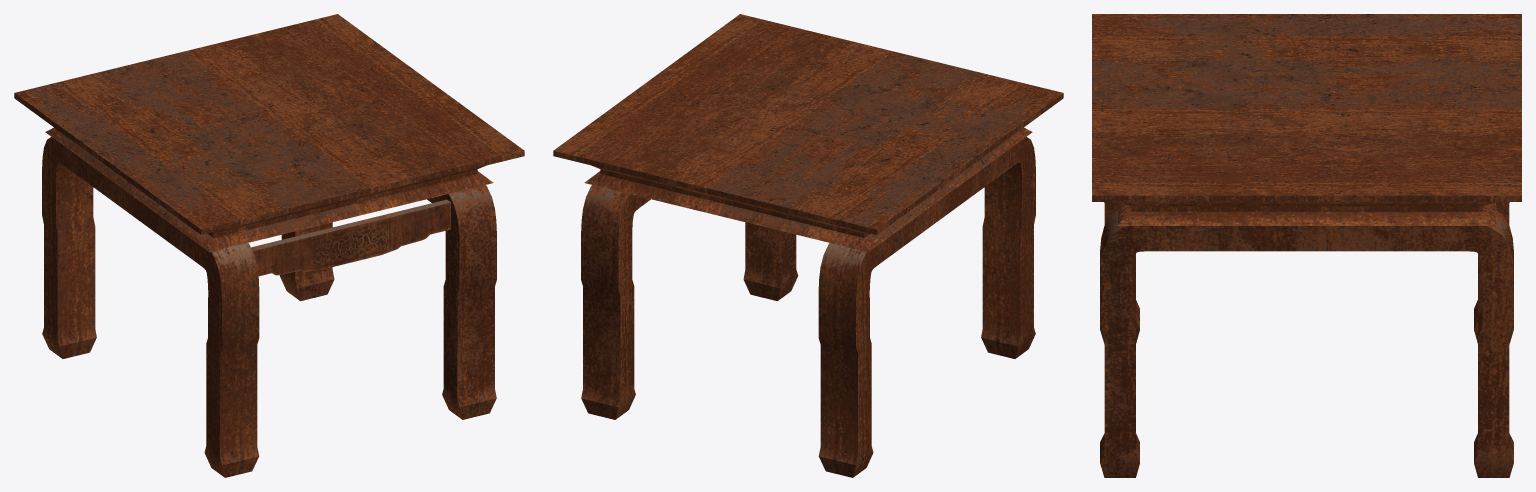
The model's file is god_table.fbx.
3 renders of one model, left to right at view 1: azimuth 30°, elevation 25°; view 2: azimuth 150°, elevation 25°; view 3: azimuth 270°, elevation 25°, orthographic. The views are drawn at different scales.
Parts seen in each view (by area): view 1: polySurface3; view 2: polySurface3; view 3: polySurface3.
Part boxes in pixels (box(x1,y1,x2,y2)): polySurface3: box(14, 14, 524, 477); polySurface3: box(553, 14, 1063, 477); polySurface3: box(1092, 14, 1521, 477).
Bounding box in the file's own units: 12.53 × 9.61 × 12.53.
